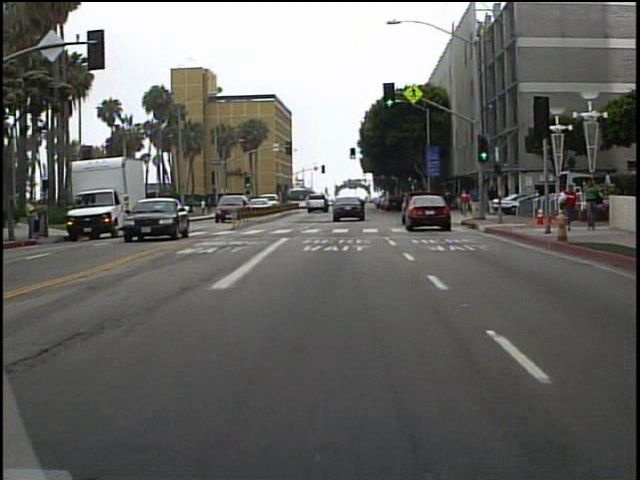person: (27, 196, 44, 241), (485, 181, 499, 215), (456, 188, 471, 218), (469, 185, 479, 202)
